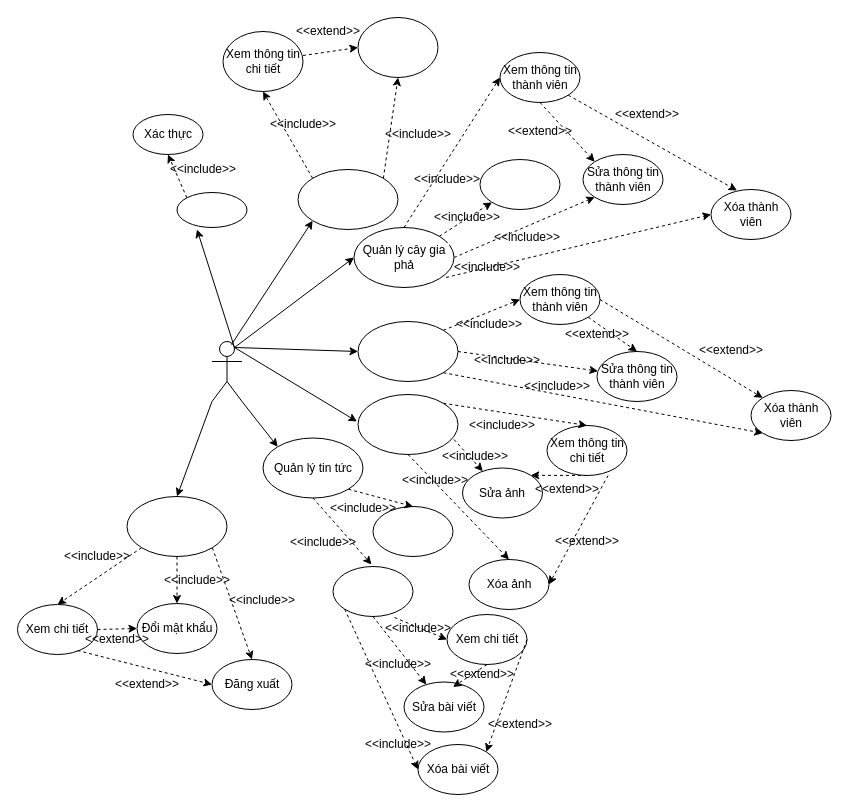
The diagram is 849 pixels wide and 812 high, and some of its shapes have lost their labels. Each missing label, with the box of its shape:
Actor: (211, 340, 242, 402)
Quản lý album ảnh: (357, 394, 458, 454)
Quản lý danh sách thành viên: (357, 320, 458, 382)
Quản lý thông tin dòng họ: (297, 168, 398, 230)
Quản lý tin đã đăng: (332, 566, 413, 616)
Quản lý tài khoản: (126, 496, 227, 556)
Sửa thông tin dòng họ: (357, 16, 438, 78)
Thêm thành viên: (479, 158, 560, 210)
Tạo tin mới: (372, 506, 453, 556)
Đăng nhập: (176, 192, 247, 228)
